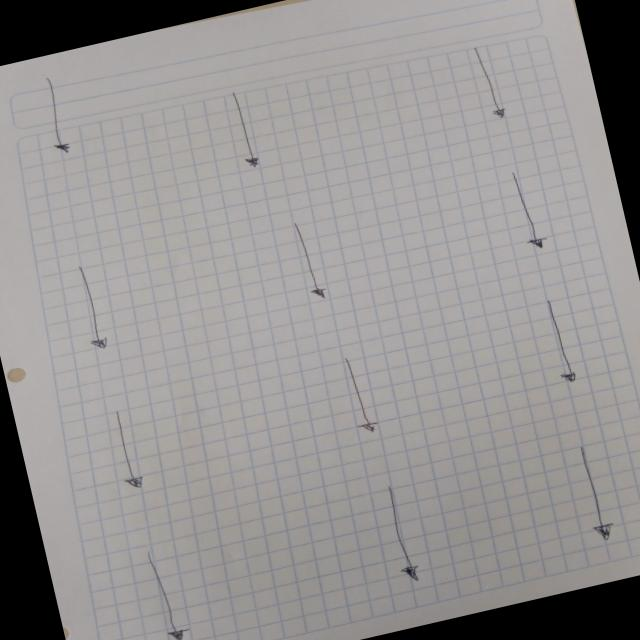arrow_line_down: (559, 438, 627, 549), (129, 541, 205, 640), (369, 480, 432, 587), (91, 402, 154, 500), (61, 260, 120, 358), (214, 84, 274, 180), (526, 294, 586, 386), (331, 351, 389, 444), (281, 210, 337, 306), (26, 70, 83, 160), (502, 168, 556, 260), (466, 40, 516, 128)
